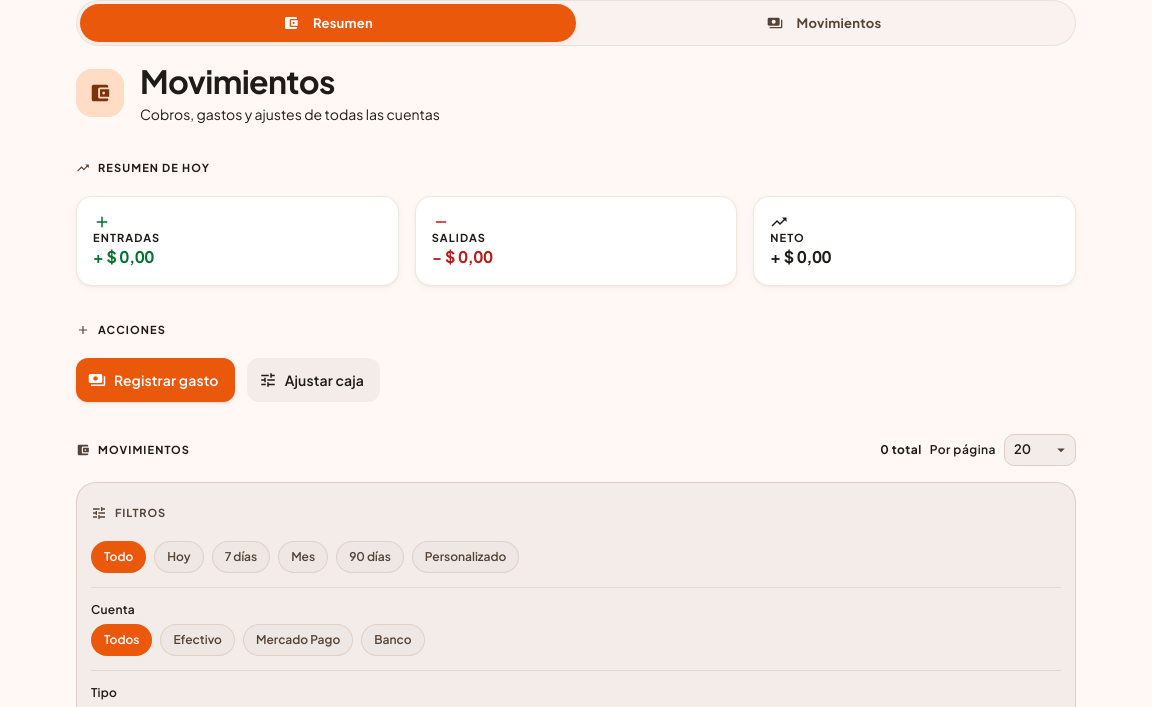
Test: CajaPage › opens the "Registrar gasto" dialog
Click the button "Registrar gasto" at (155, 380), box 76,358 -> 235,402
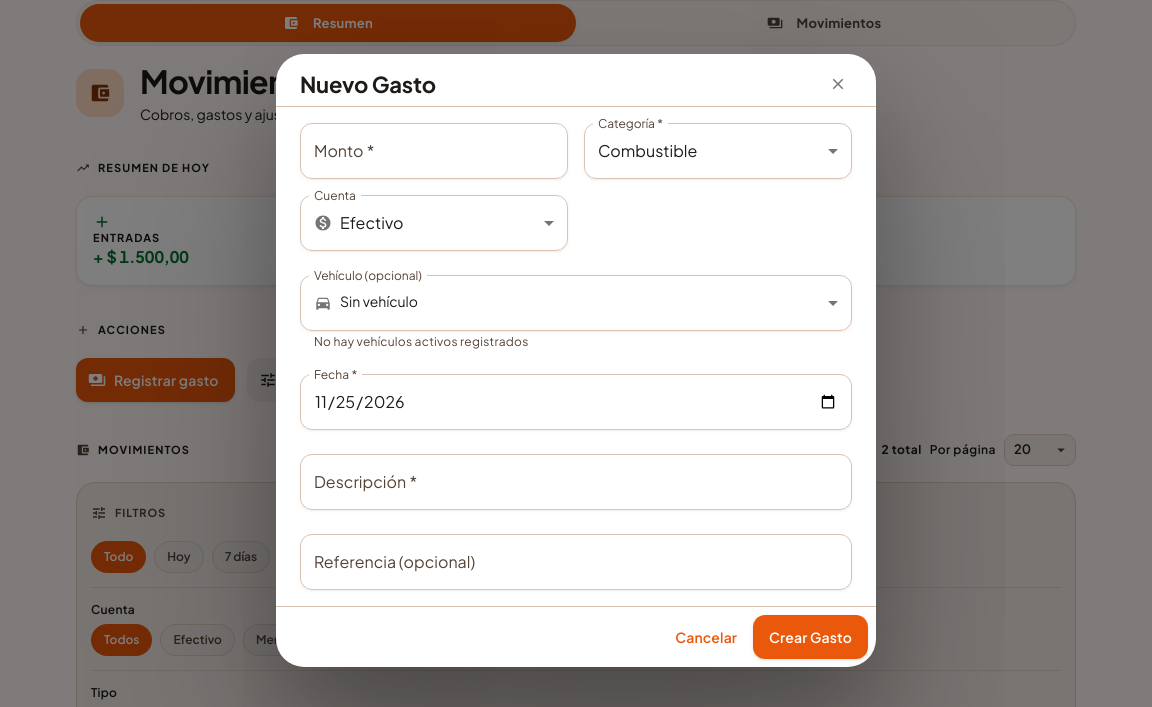
Result: the heading "Nuevo Gasto" is shown at 300,70 -> 852,98
